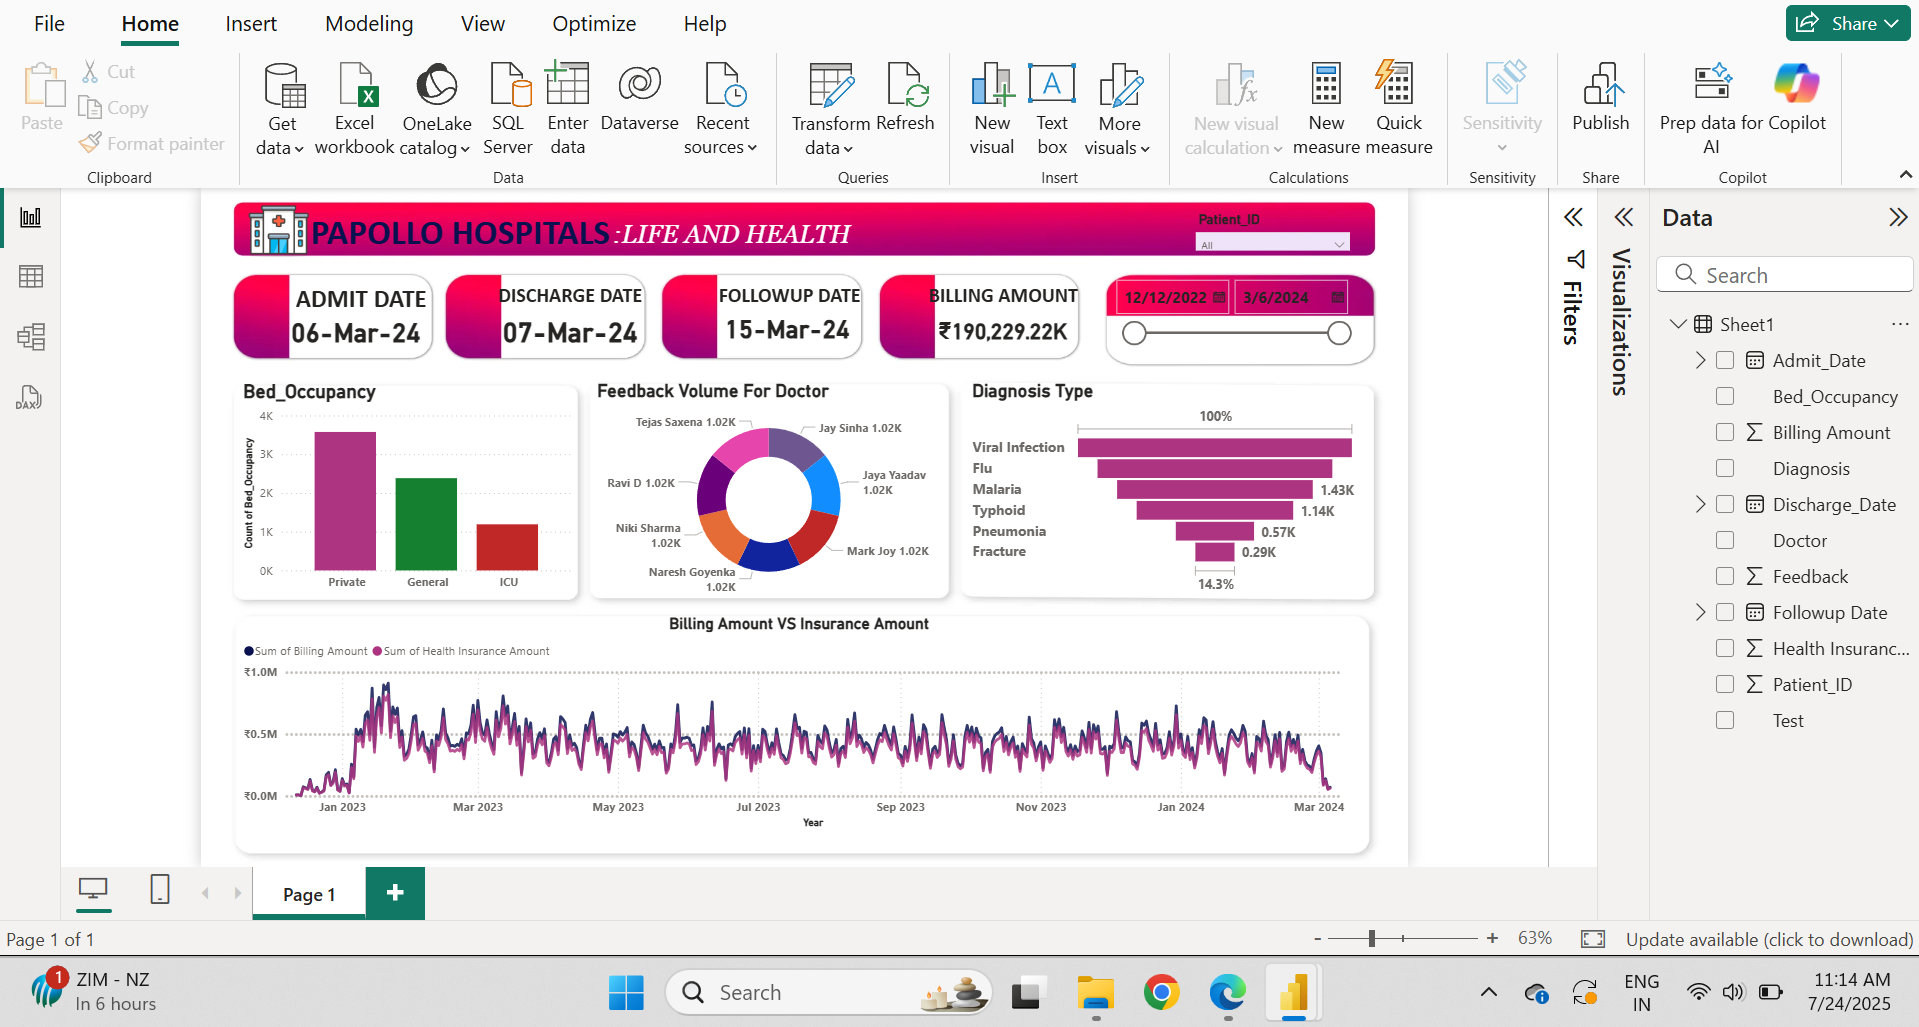

Layout of this report page (visuals, bound fields, positions):
{"tool":"powerbi","page":{"name":"Page 1","canvas":[1280,720],"ordinal":0},"visuals":[{"type":"textbox","box":[111.5,18.9,353.4,64.3],"z":0},{"type":"image","box":[39.7,0,85,79.4],"z":1000},{"type":"textbox","box":[430.9,28.3,493.2,43.5],"z":2000},{"type":"slicer","fields":{"Values":["Sheet1.Patient_ID"]},"box":[1045,18.9,183.3,47.2],"z":3000},{"type":"card","fields":{"Values":["Sheet1.Admit_Date"]},"box":[40.4,126.8,248.2,49.6],"z":4000},{"type":"textbox","box":[95.6,95.6,174.6,62.5],"z":5000},{"type":"textbox","box":[310.7,95.6,180.1,62.5],"z":6000},{"type":"textbox","box":[544.1,95.6,176.5,49.6],"z":7000},{"type":"textbox","box":[766.5,95.6,191.2,62.5],"z":8000},{"type":"card","fields":{"Values":["Sheet1.Discharge_Date"]},"box":[310.7,126.8,161.8,47.8],"z":9000},{"type":"card","fields":{"Values":["Sheet1.Followup Date"]},"box":[544.1,104.8,154.4,86.4],"z":10000},{"type":"card","fields":{"Values":["Sheet1.Billing Amount"]},"box":[740.8,112.1,216.9,79],"z":11000},{"type":"slicer","fields":{"Values":["Sheet1.Admit_Date"]},"box":[957.5,87.5,270.4,89.1],"z":12000},{"type":"columnChart","title":" Bed_Occupancy","fields":{"Category":["Sheet1.Bed_Occupancy"],"Y":["Sheet1.Bed_Occupancy"]},"box":[40.4,204,360.3,231.6],"z":13000},{"type":"donutChart","title":"Feedback Volume  For Doctor","fields":{"Category":["Sheet1.Doctor"],"Y":["Sheet1.Doctor"]},"box":[415.4,204,373.2,231.6],"z":14000},{"type":"funnel","title":" Diagnosis Type","fields":{"Category":["Sheet1.Diagnosis"],"Y":["Sheet1.Diagnosis"]},"box":[812.5,204,417.3,231.6],"z":15000},{"type":"lineChart","title":" Billing Amount VS  Insurance Amount ","fields":{"Y":["Sheet1.Billing Amount","Sheet1.Health Insurance Amount"],"Category":["Sheet1.Admit_Date.Variation.Date Hierarchy.Year","Sheet1.Admit_Date.Variation.Date Hierarchy.Quarter","Sheet1.Admit_Date.Variation.Date Hierarchy.Month","Sheet1.Admit_Date.Variation.Date Hierarchy.Day"]},"box":[40.4,452.2,1189.3,231.6],"z":16000}]}

Visuals, with their boxes on the page's 1280x720 design canvas (x1, y1, x2, y2). These are canvas units, not pixel positions in the 1919x1027 screenshot, which may show the page scaled, cropped or inside an application window:
textbox: x1=112 y1=19 x2=465 y2=83
image: x1=40 y1=0 x2=125 y2=79
textbox: x1=431 y1=28 x2=924 y2=72
slicer - Sheet1.Patient_ID: x1=1045 y1=19 x2=1228 y2=66
card - Sheet1.Admit_Date: x1=40 y1=127 x2=289 y2=176
textbox: x1=96 y1=96 x2=270 y2=158
textbox: x1=311 y1=96 x2=491 y2=158
textbox: x1=544 y1=96 x2=721 y2=145
textbox: x1=766 y1=96 x2=958 y2=158
card - Sheet1.Discharge_Date: x1=311 y1=127 x2=472 y2=175
card - Sheet1.Followup Date: x1=544 y1=105 x2=698 y2=191
card - Sheet1.Billing Amount: x1=741 y1=112 x2=958 y2=191
slicer - Sheet1.Admit_Date: x1=958 y1=88 x2=1228 y2=177
" Bed_Occupancy" columnChart: x1=40 y1=204 x2=401 y2=436
"Feedback Volume  For Doctor" donutChart: x1=415 y1=204 x2=789 y2=436
" Diagnosis Type" funnel: x1=812 y1=204 x2=1230 y2=436
" Billing Amount VS  Insurance Amount " lineChart: x1=40 y1=452 x2=1230 y2=684
